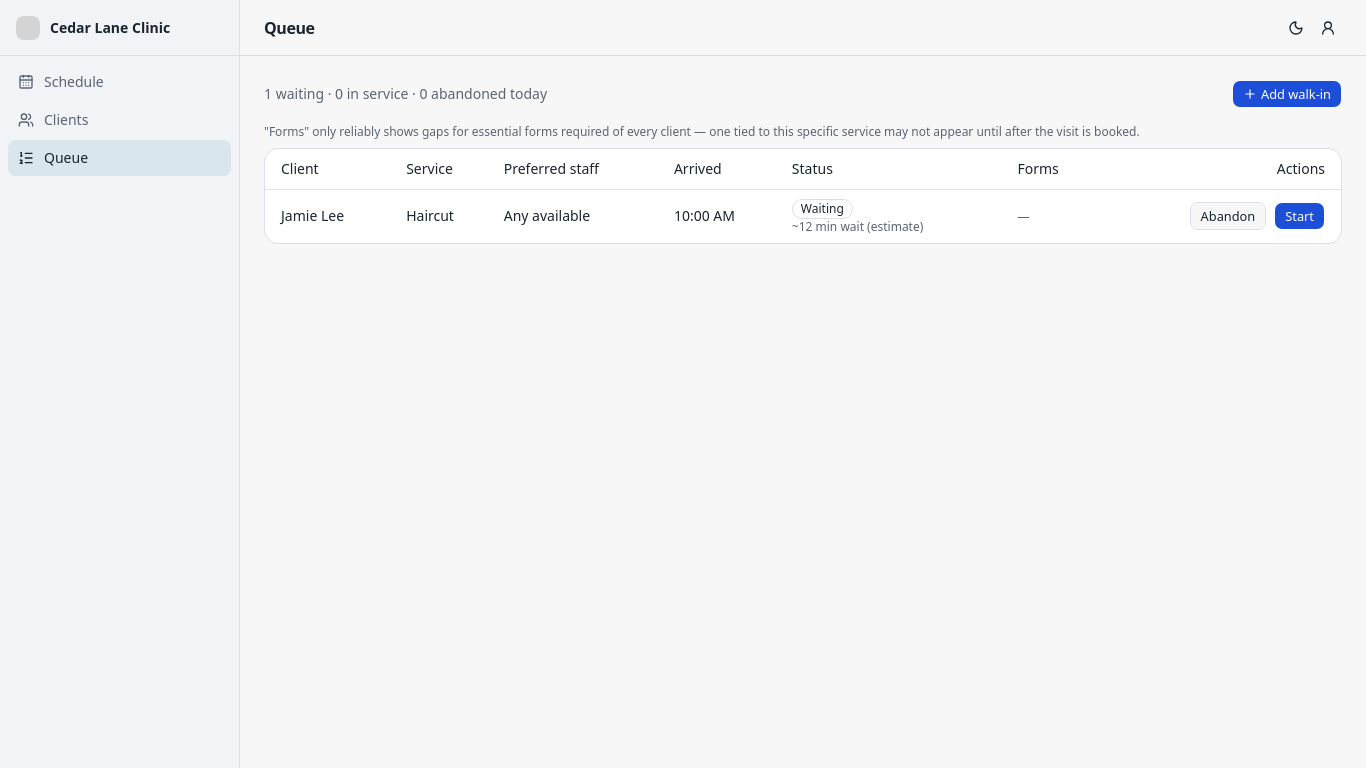
a walk-in that would run into a booked appointment gets a clear, specific reason
Click the button "Start": click(1300, 216) [1274,202,1325,230]
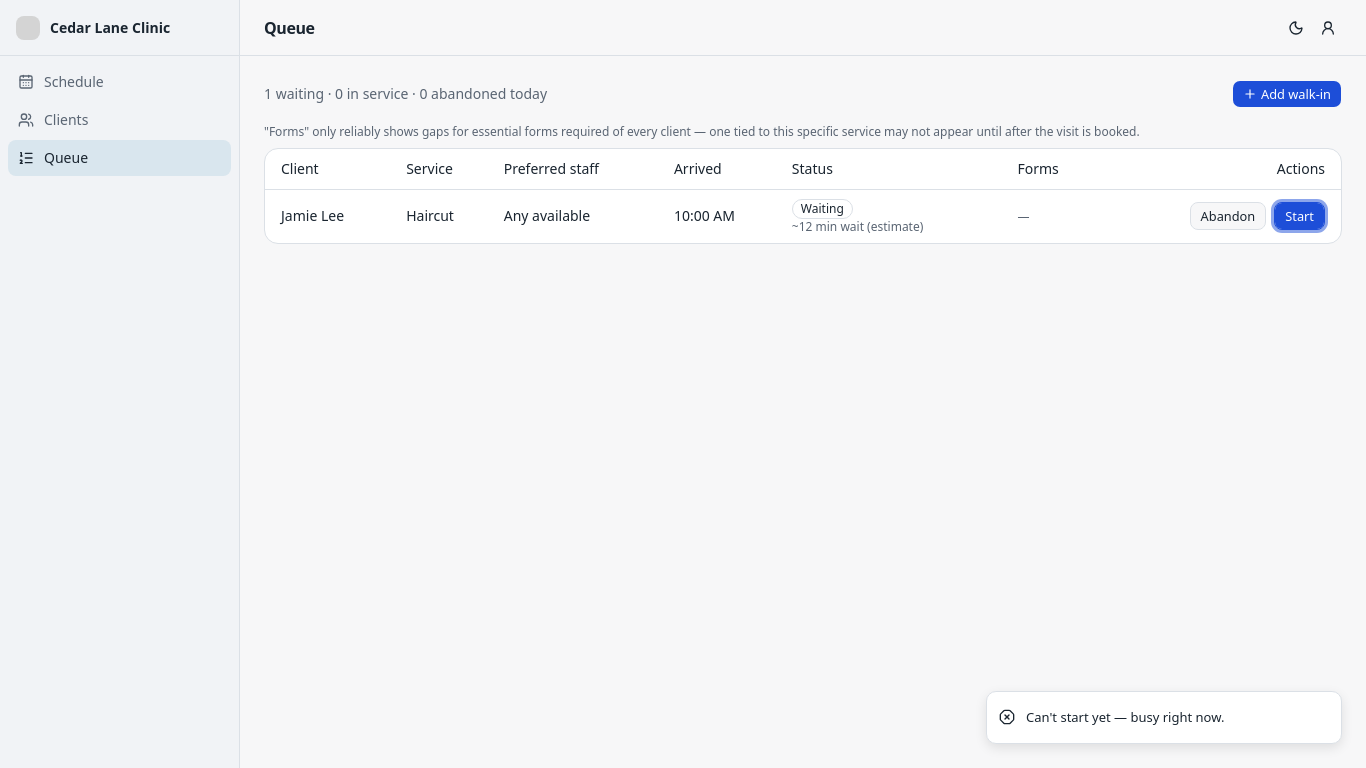
Expected: the text "Jamie Lee" is shown, [281,206,344,225]
Expected: the text "Can't start yet — busy right now." is shown, [1026,708,1224,727]
